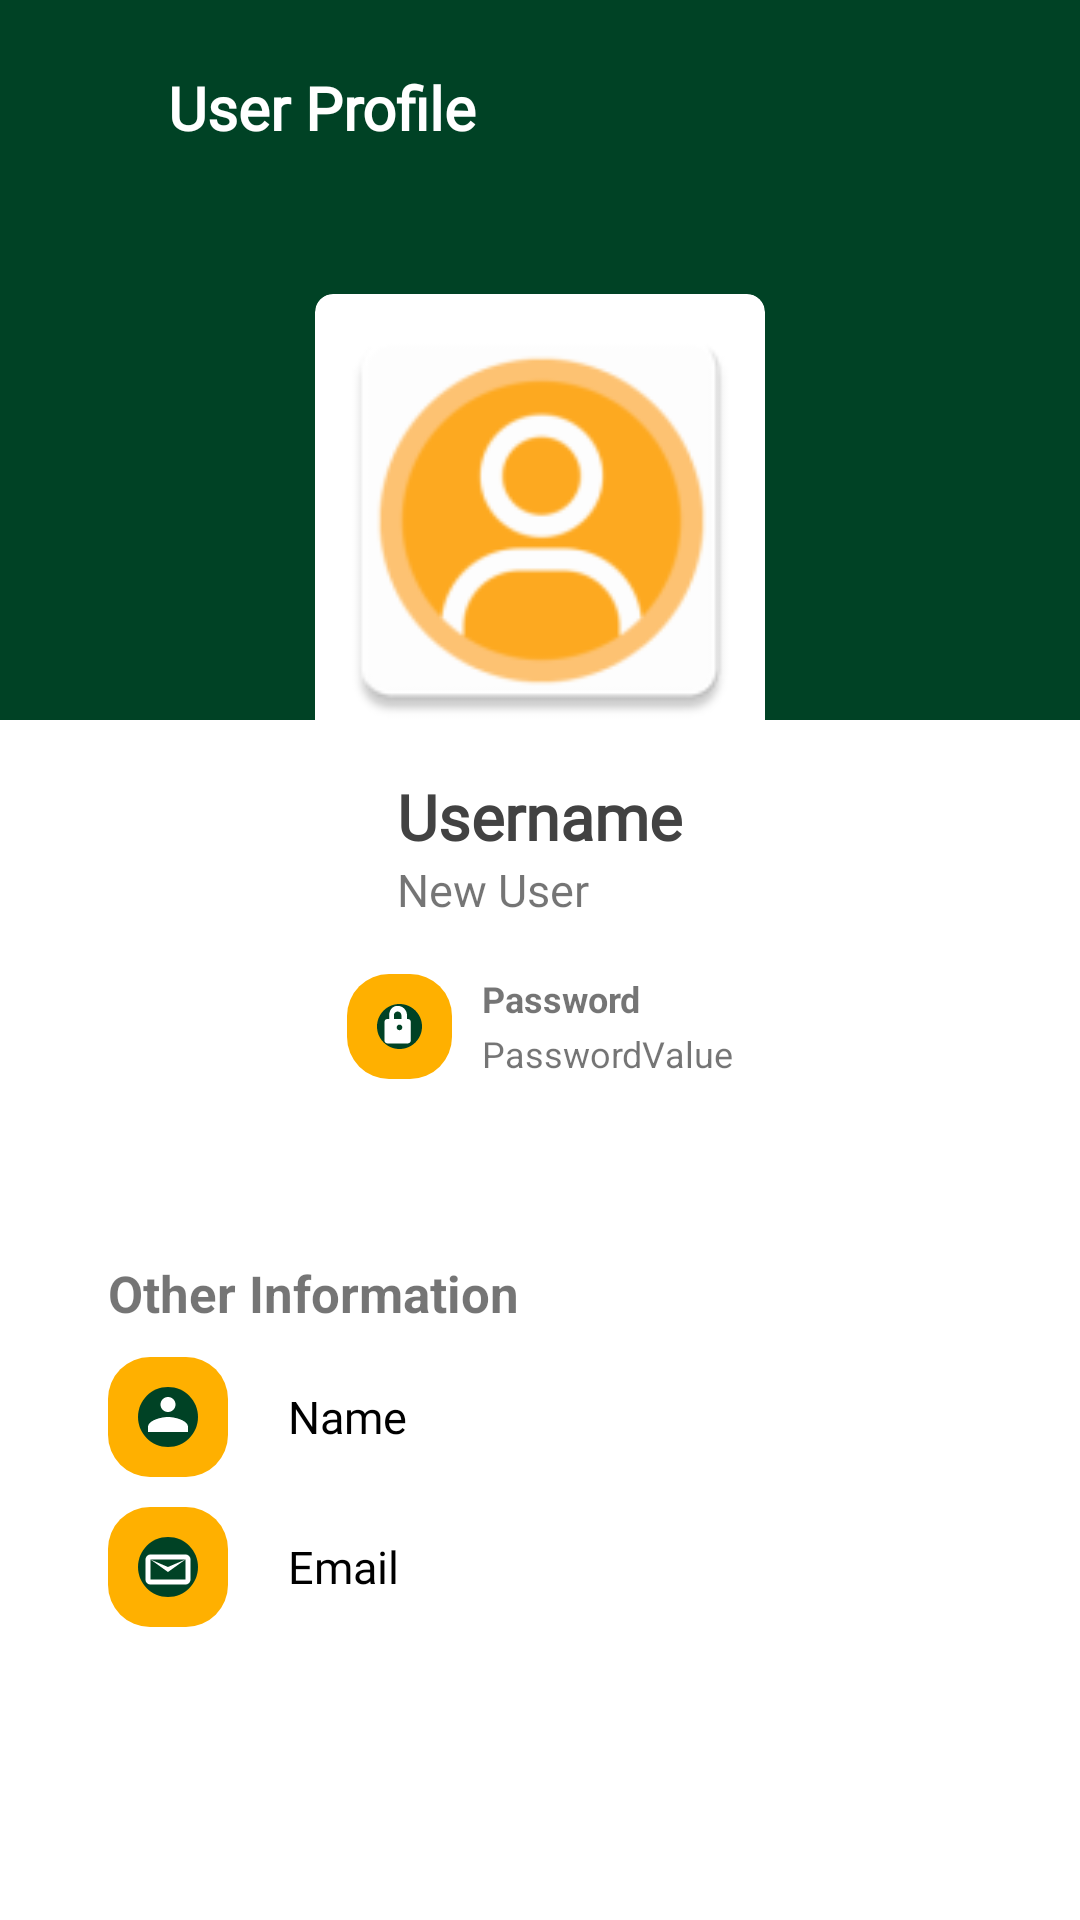

Point at icon controls on the screen. Image size 1080w x 1920h, points as (x,y).
user: (168,1417)
